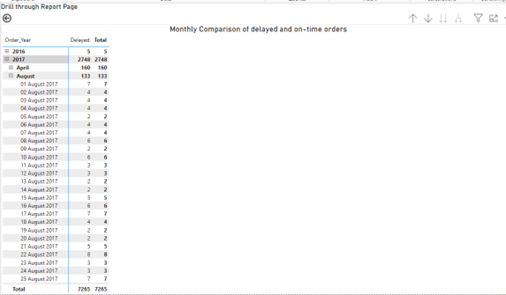

The dashboard page shown, as its layout file describes it:
{"tool":"powerbi","page":{"name":"Page 2","canvas":[1280,720],"ordinal":1},"visuals":[{"type":"pivotTable","title":"Monthly Comparison of delayed and on-time orders","fields":{"Columns":["Order_items_dataset.Delivery Status"],"Values":["Order_items_dataset.Order Count"],"Rows":["Orders_dataset.Order_Year Hierarchy.Order_Year","Orders_dataset.Order_Year Hierarchy.Month Name","Orders_dataset.Order_Year Hierarchy.Date"]},"box":[0,54.9,1280.3,665.5],"z":0},{"type":"actionButton","title":"Drill through Report Page","box":[0,0,325.2,54.9],"z":1000}]}

Visuals, with their boxes on the page's 1280x720 design canvas (x1, y1, x2, y2). These are canvas units, not pixel positions in the 506x295 screenshot, which may show the page scaled, cropped or inside an application window:
"Monthly Comparison of delayed and on-time orders" pivotTable: [x1=0, y1=55, x2=1280, y2=720]
"Drill through Report Page" actionButton: [x1=0, y1=0, x2=325, y2=55]
